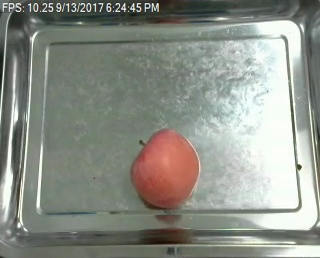Apple: (130, 127, 199, 212)
